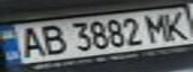2: (121, 15, 145, 46)
3: (66, 19, 90, 53)
8: (87, 18, 109, 51), (106, 16, 127, 48)
A: (12, 25, 48, 58)
B: (33, 21, 69, 56)
K: (160, 8, 193, 42)
M: (142, 11, 175, 43)
